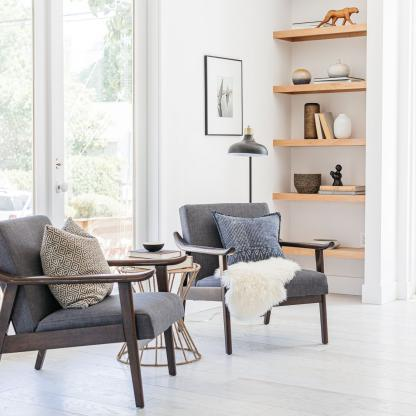chair: (0, 214, 195, 409), (174, 193, 343, 352)
door: (44, 3, 142, 282)
light: (224, 119, 271, 206)
table: (115, 242, 203, 374)
